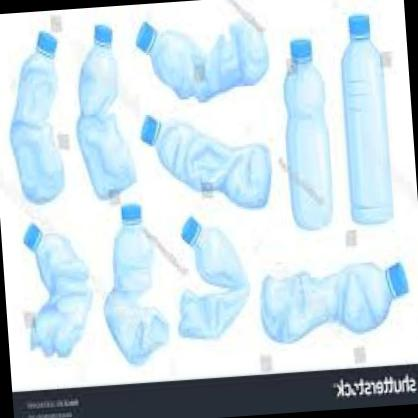bottle: (249, 239, 418, 361), (138, 104, 276, 219), (329, 3, 397, 232), (132, 4, 276, 111), (275, 30, 341, 242), (1, 26, 74, 211), (94, 200, 169, 366), (67, 26, 134, 206), (167, 212, 252, 344), (19, 217, 96, 362)
cap: (286, 34, 318, 68), (135, 114, 162, 150), (130, 20, 158, 54), (19, 216, 44, 254), (388, 264, 410, 299), (179, 217, 203, 248), (89, 22, 120, 46), (35, 28, 63, 54), (346, 13, 372, 40), (118, 203, 144, 224)
